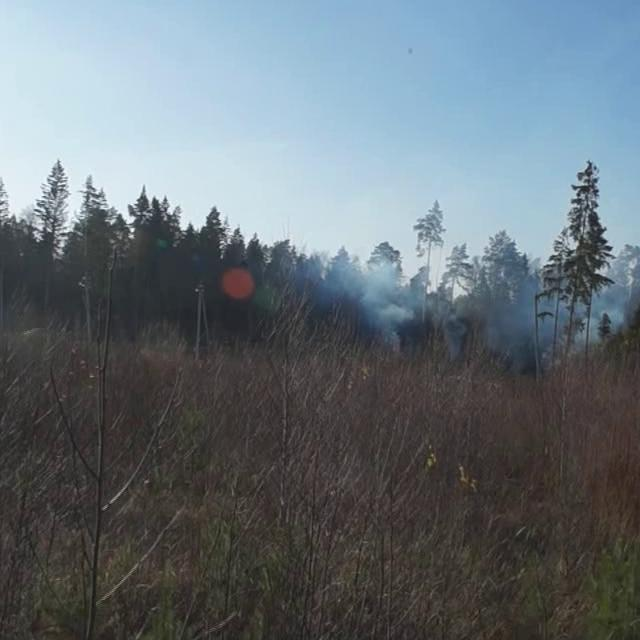Smoke: (315, 237, 639, 374)
